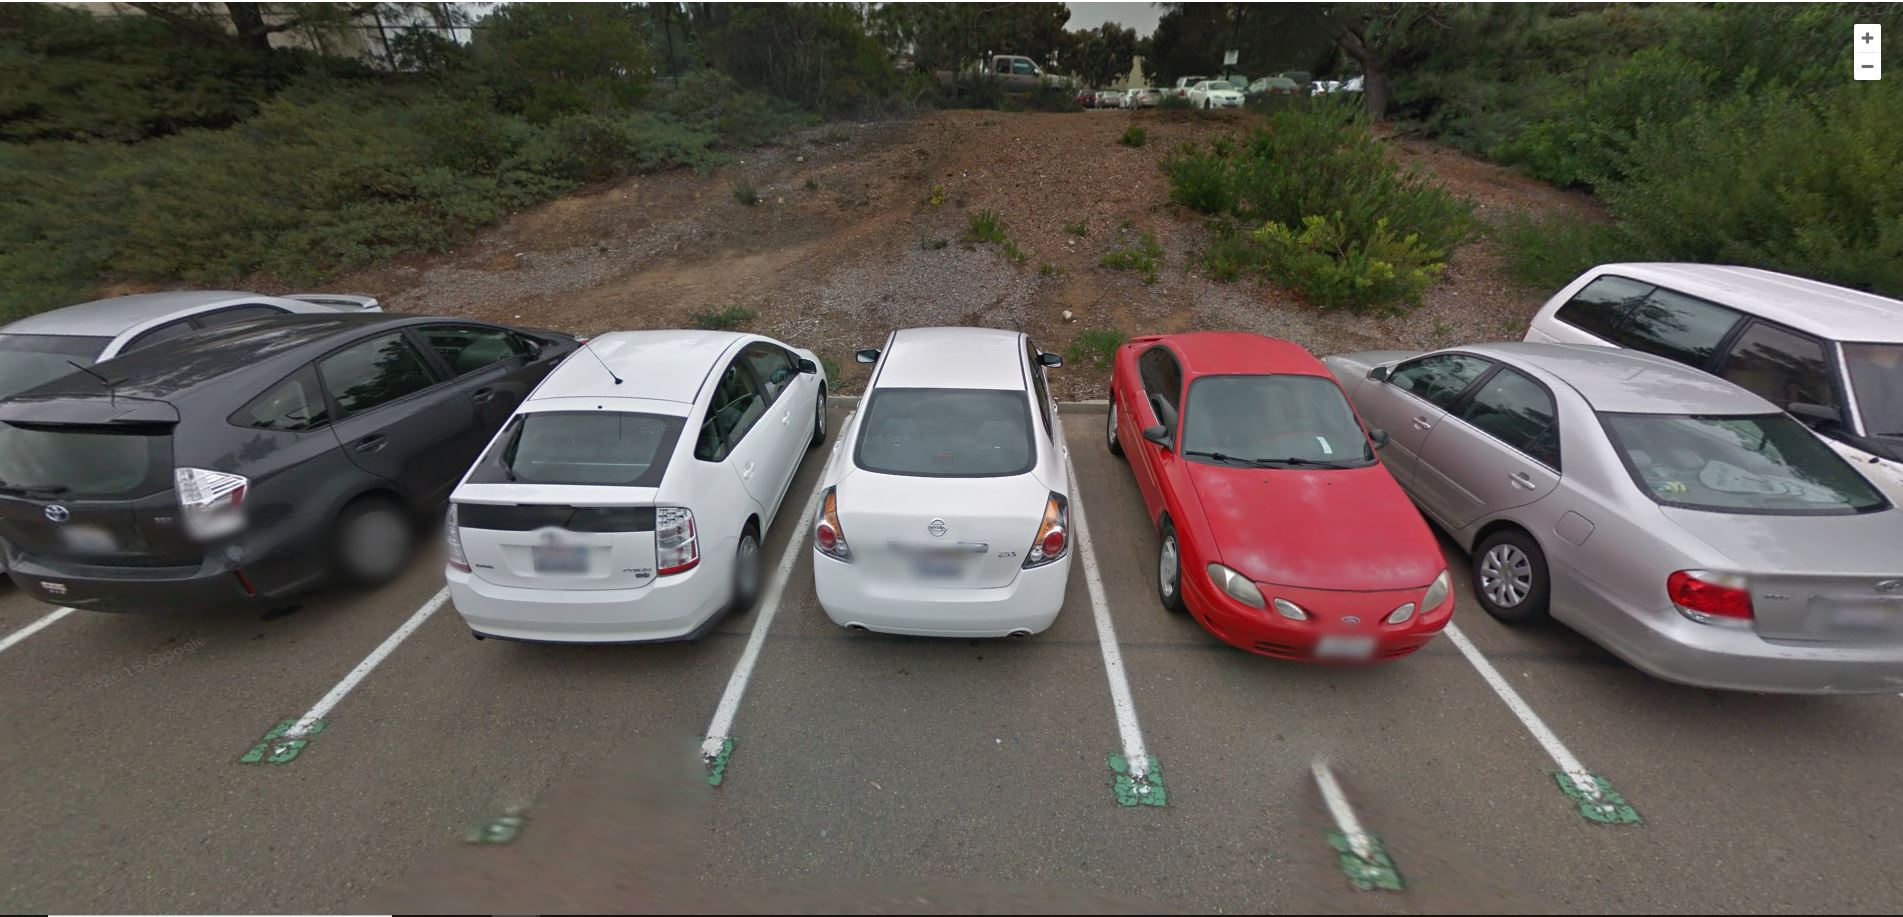car: (1316, 334, 1903, 731), (1, 313, 598, 623), (441, 321, 837, 663), (1096, 324, 1458, 673), (806, 321, 1090, 647)
